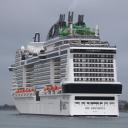cruises: (10, 10, 124, 120)
